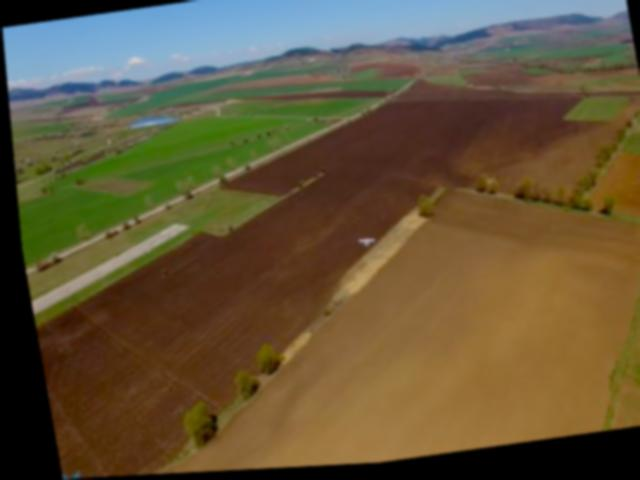uav: (349, 229, 374, 253)
